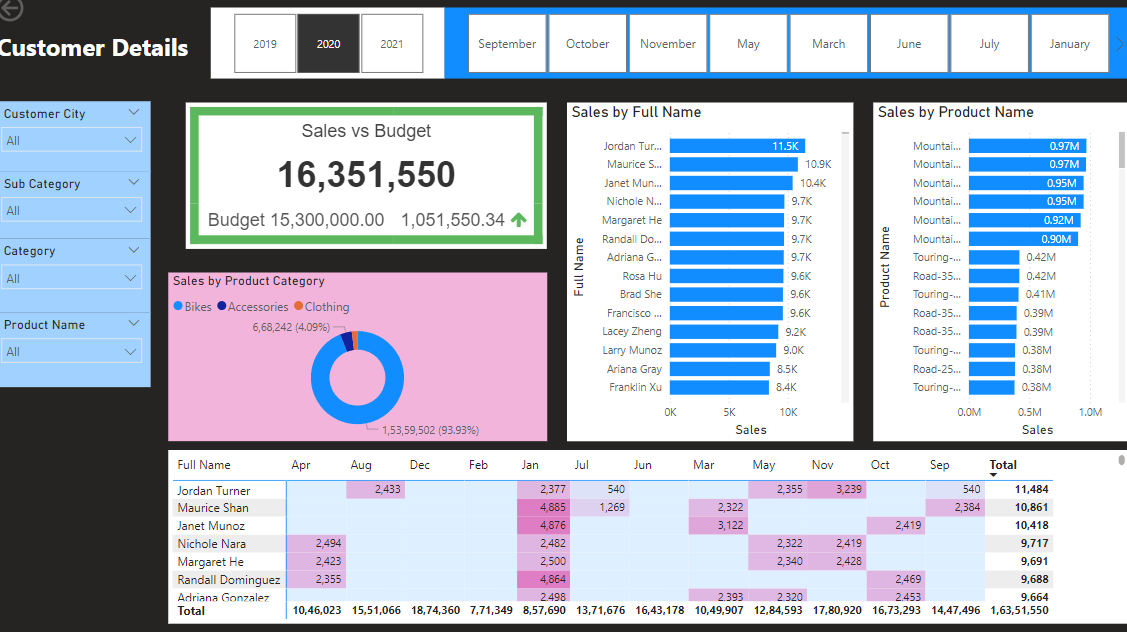

The dashboard page shown, as its layout file describes it:
{"tool":"powerbi","page":{"name":"Customer Details","canvas":[1280,720],"ordinal":1},"visuals":[{"type":"textbox","box":[0,40.4,1280.3,58.5],"z":0},{"type":"slicer","fields":{"Values":["DIM_Customers.Customer City"]},"box":[0,124,176.9,78],"z":1000},{"type":"actionButton","box":[0,0,100,40],"z":2000},{"type":"slicer","fields":{"Values":["DIM_Products.Sub Category"]},"box":[0,202,176.9,75.2],"z":3000},{"type":"slicer","fields":{"Values":["DIM_Products.Product Category"]},"box":[0,277.2,176.9,82.2],"z":4000},{"type":"slicer","fields":{"Values":["DIM_Products.Product Name"]},"box":[0,359.4,176.9,83.6],"z":5000},{"type":"slicer","fields":{"Values":["DIM_Calendar.Year"]},"box":[243.8,19.5,260.5,79.4],"z":6000},{"type":"slicer","fields":{"Values":["DIM_Calendar.Month"]},"box":[504.3,19.5,764.9,79.4],"z":7000},{"type":"BBED0A4D4D8D44CE93CF2DAFADEE466C","fields":{"actual":["FACT_InternetSales.Sales"],"target1":["FactBudget.BudgetAmount"],"target2":["Key Measures.Sales - Budget"]},"box":[215.4,124.7,402.5,163],"z":9000},{"type":"donutChart","fields":{"Category":["DIM_Products.Product Category"],"Y":["Key Measures.Sales"]},"box":[196.4,314.9,422.1,188.1],"z":10000},{"type":"barChart","fields":{"Y":["Key Measures.Sales"],"Category":["DIM_Customers.Full Name"]},"box":[640.9,125.4,319,377.6],"z":11000},{"type":"barChart","fields":{"Y":["Key Measures.Sales"],"Category":["DIM_Products.Product Name"]},"box":[982.2,125.4,287,377.6],"z":12000},{"type":"pivotTable","fields":{"Rows":["DIM_Customers.Full Name"],"Values":["Key Measures.Sales"],"Columns":["DIM_Calendar.MonthShort"]},"box":[196.4,512.7,1072.8,193.7],"z":13000}]}

Visuals, with their boxes in screenshot pixels (x1, y1, x2, y2), scaled from the page's 1280x720 canvas onto the 1127x632 screenshot:
textbox: 0/35/1126/87
slicer - DIM_Customers.Customer City: 0/109/156/177
actionButton: 0/0/88/35
slicer - DIM_Products.Sub Category: 0/177/156/243
slicer - DIM_Products.Product Category: 0/243/156/315
slicer - DIM_Products.Product Name: 0/315/156/389
slicer - DIM_Calendar.Year: 215/17/444/87
slicer - DIM_Calendar.Month: 444/17/1117/87
BBED0A4D4D8D44CE93CF2DAFADEE466C - FACT_InternetSales.Sales x FactBudget.BudgetAmount: 190/109/544/253
donutChart - DIM_Products.Product Category x Key Measures.Sales: 173/276/545/442
barChart - Key Measures.Sales x DIM_Customers.Full Name: 564/110/845/442
barChart - Key Measures.Sales x DIM_Products.Product Name: 865/110/1117/442
pivotTable - DIM_Customers.Full Name x Key Measures.Sales: 173/450/1117/620
